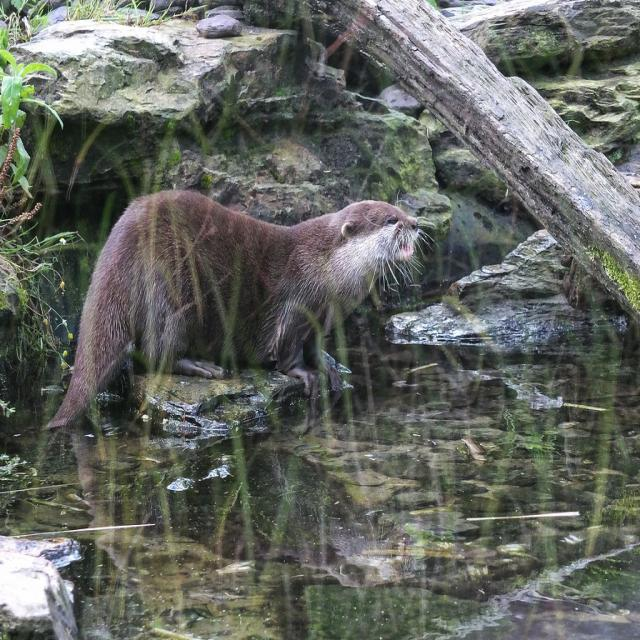otter: (57, 195, 421, 425)
